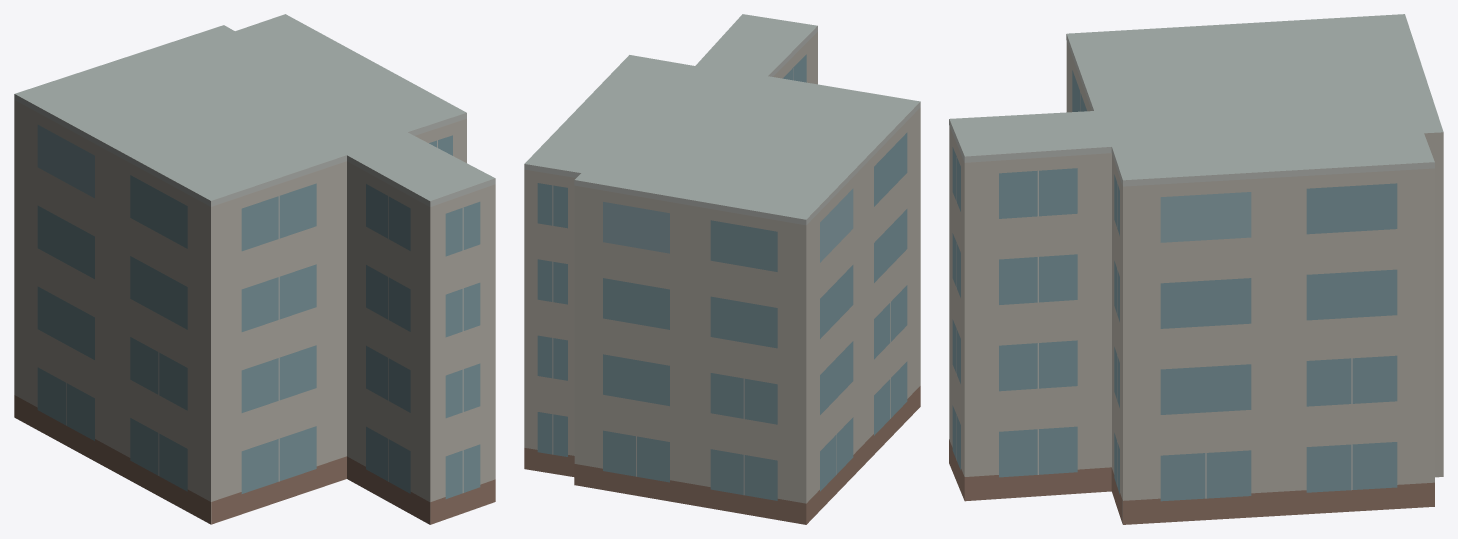
The model's file is survey-upis-32835864.glb.
3 renders of one model, left to right at view 1: azimuth 30°, elevation 25°; view 2: azimuth 150°, elevation 25°; view 3: azimuth 270°, elevation 25°, orthographic. The views are drawn at different scales.
Parts seen in each view (by area): view 1: survey-upis-32835864.tmp; view 2: survey-upis-32835864.tmp; view 3: survey-upis-32835864.tmp.
Part boxes in pixels (left/top/right/bottom): survey-upis-32835864.tmp: left=14, top=14, right=495, bottom=524; survey-upis-32835864.tmp: left=524, top=14, right=920, bottom=524; survey-upis-32835864.tmp: left=949, top=14, right=1443, bottom=524.
Size of the model in its own units: 13.71 by 13.24 by 17.23.
